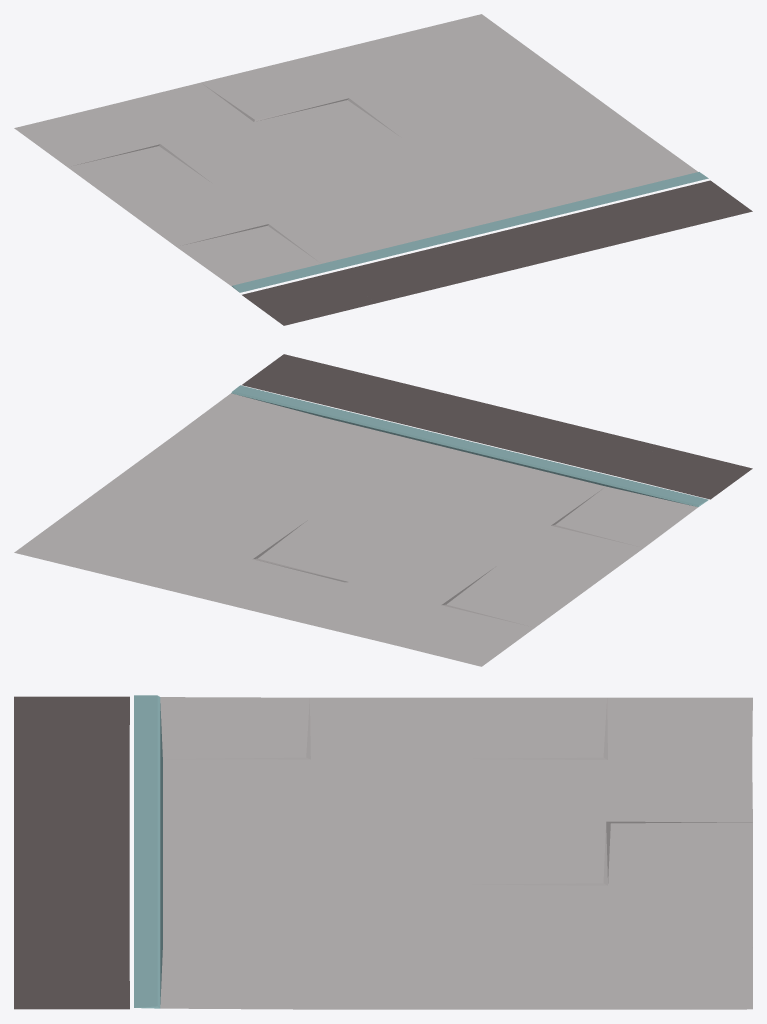
Rendered from QmPuigDrk7xfwVTzaqG2KxMFie3NPB7Lo44qF4hCrpEaTx_lod2.fbx.
The picture shows the model from 3 angles, top to bottom: view 1: azimuth 30°, elevation 25°; view 2: azimuth 150°, elevation 25°; view 3: azimuth 270°, elevation 25°; orthographic projection. The views are drawn at different scales.
Parts seen in each view (by area): view 1: Entity_512; view 2: Entity_512; view 3: Entity_512.
Part boxes in pixels (x1,y1,x2,y2): Entity_512: [14, 14, 752, 325]; Entity_512: [14, 354, 752, 666]; Entity_512: [14, 695, 752, 1009].
Bounding box in the file's own units: 15923 × 70.6 × 15907.
1 material, 1 textured.
